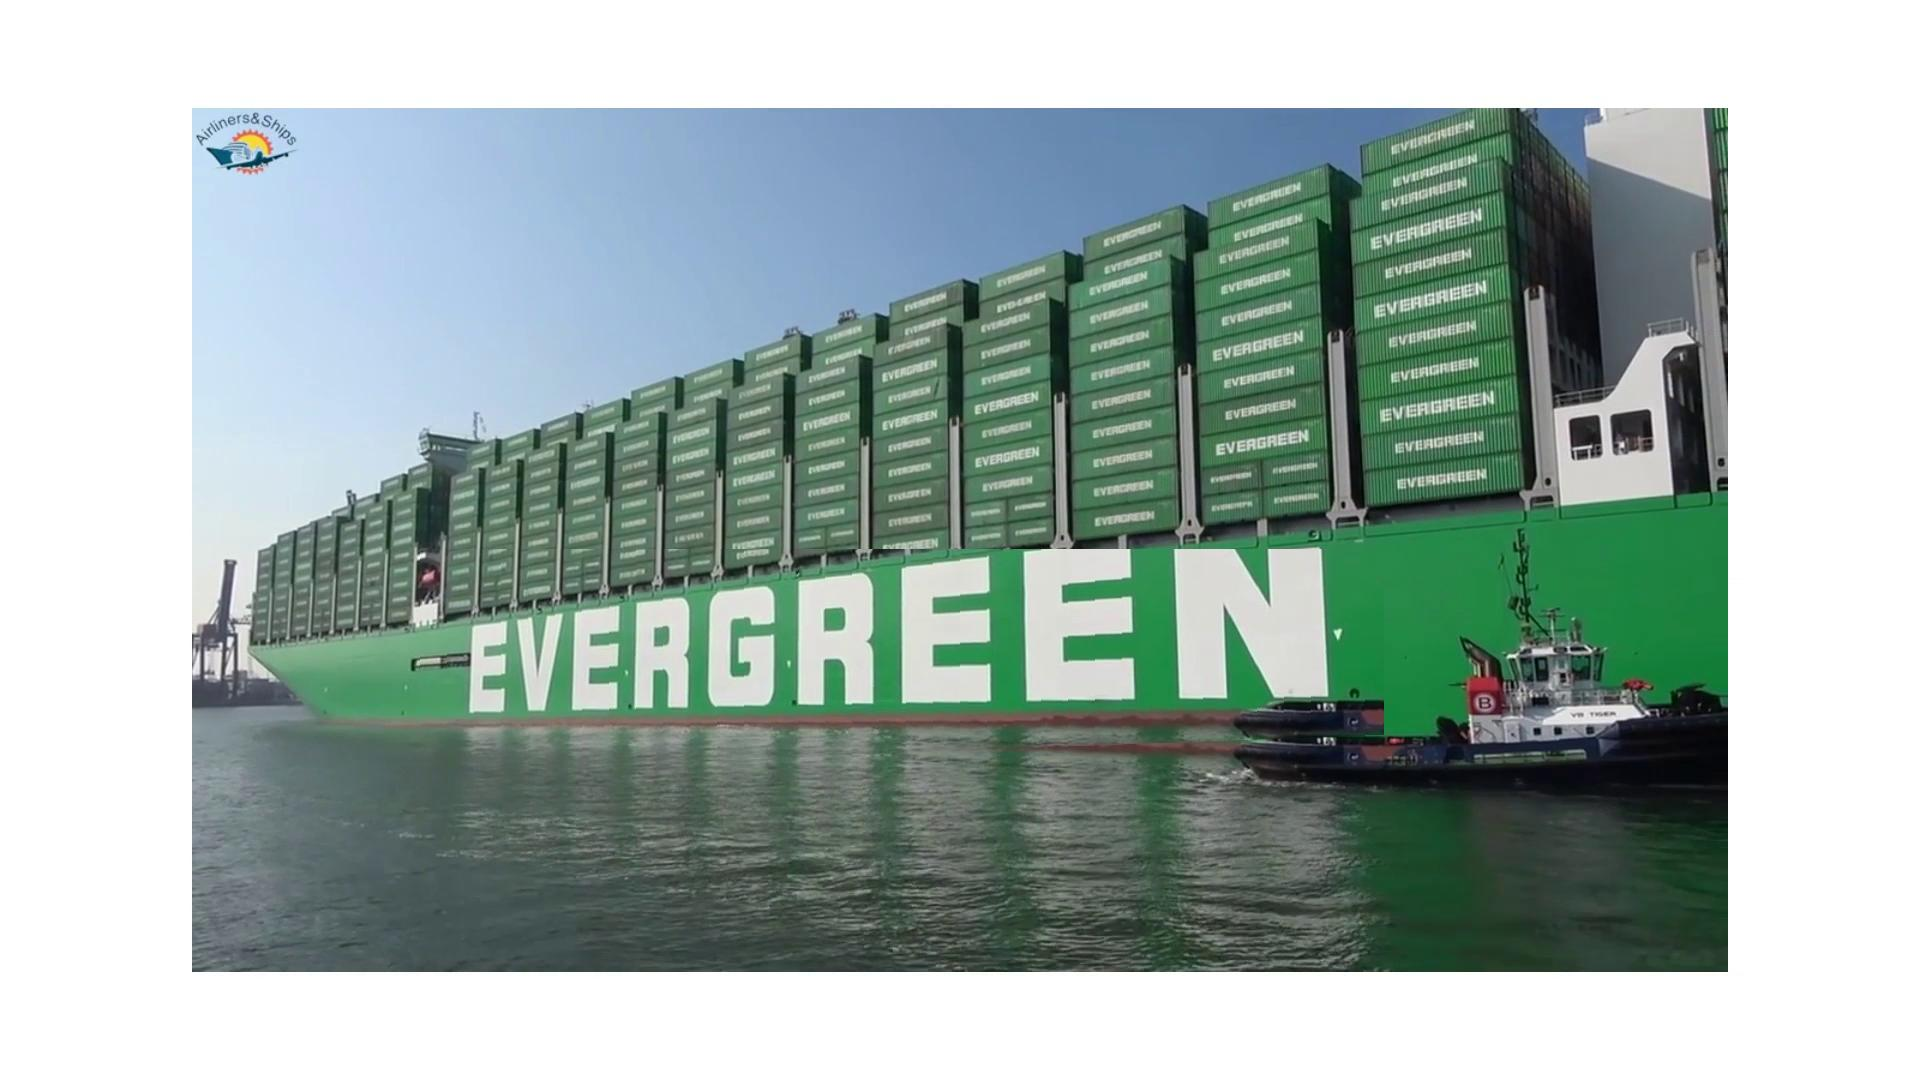OCR: (406, 549, 1383, 771)
